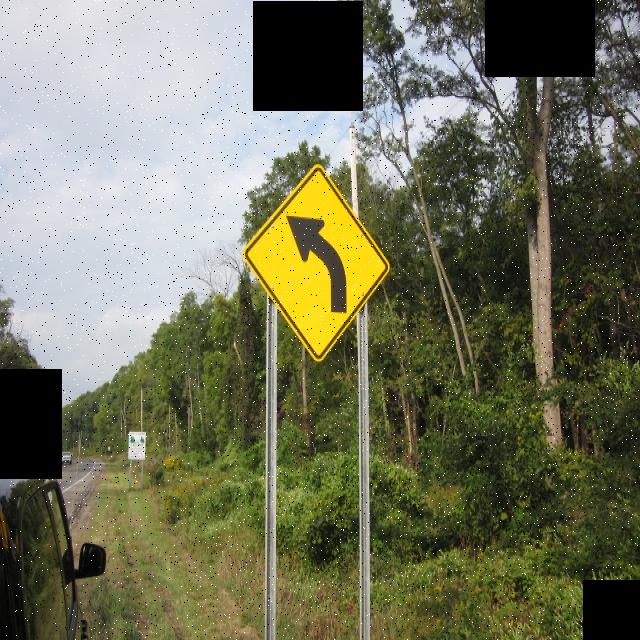warning: (246, 163, 391, 364)
